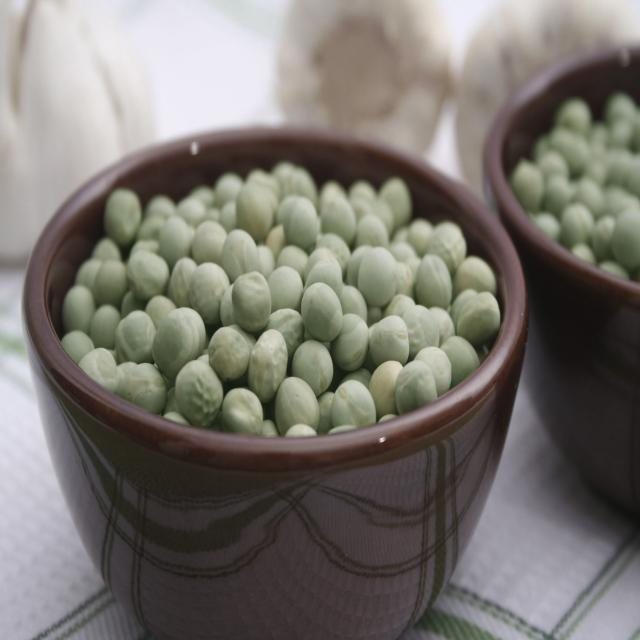Peas: (58, 160, 500, 448), (511, 91, 640, 285)
